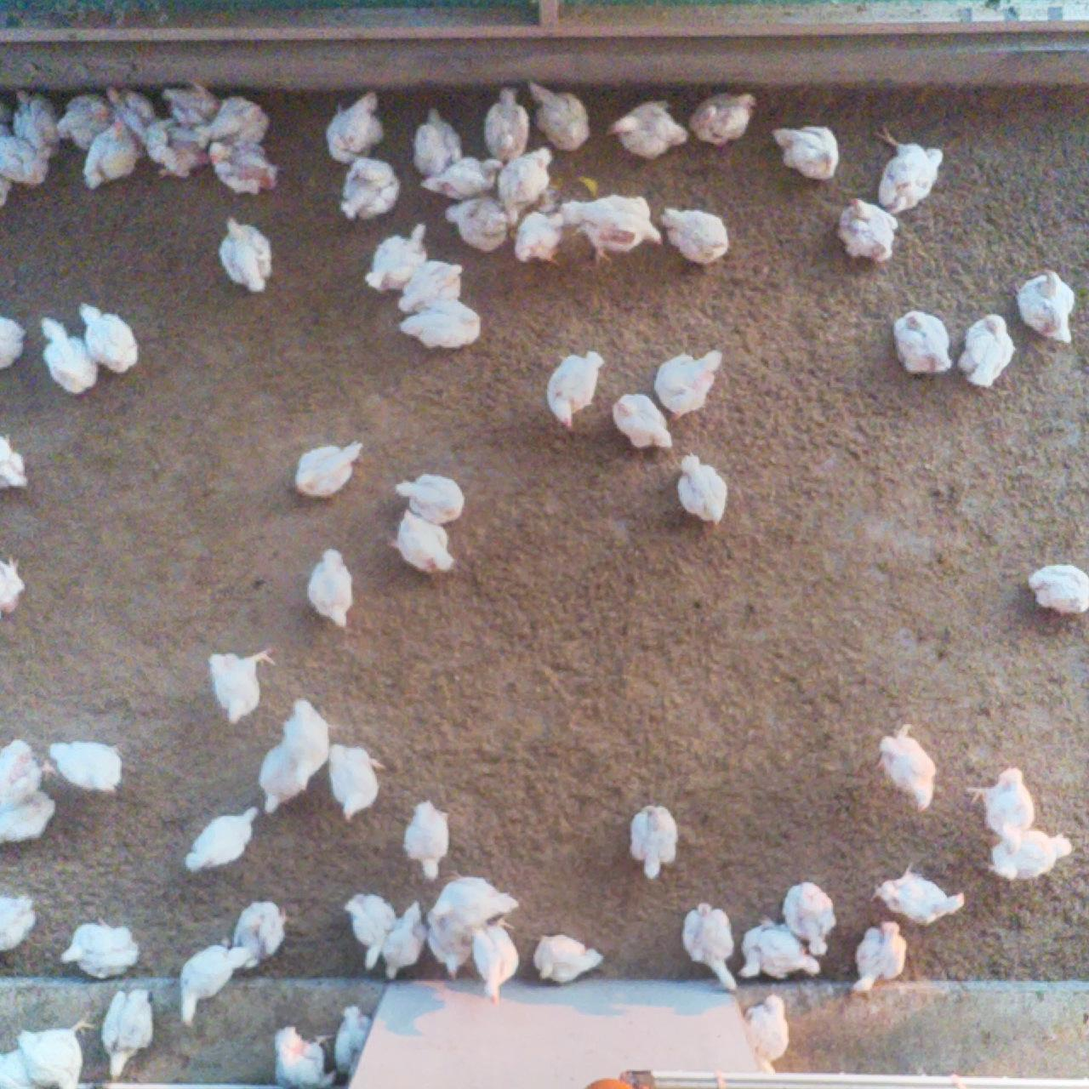chicken: (862, 106, 949, 228), (559, 189, 664, 271), (173, 938, 260, 1033), (723, 907, 823, 985), (866, 855, 969, 928), (649, 339, 730, 431), (868, 717, 940, 818), (600, 91, 695, 165), (53, 908, 147, 981), (13, 1012, 100, 1089), (678, 895, 742, 998), (538, 340, 608, 434), (984, 820, 1078, 890), (1009, 262, 1082, 350), (959, 757, 1036, 840), (183, 805, 267, 880), (34, 311, 103, 402), (206, 641, 278, 728), (395, 294, 493, 357), (764, 116, 844, 193), (72, 296, 142, 383), (326, 738, 392, 830), (320, 78, 389, 165), (260, 1016, 341, 1089), (952, 303, 1018, 392), (76, 115, 144, 201), (386, 502, 459, 582), (884, 304, 956, 384), (687, 84, 763, 159), (829, 190, 900, 270), (97, 985, 156, 1081), (336, 150, 411, 225), (280, 691, 334, 795), (524, 76, 594, 155), (290, 430, 369, 500), (624, 793, 684, 885), (358, 219, 432, 292), (431, 865, 522, 924), (439, 190, 519, 257), (215, 211, 278, 296), (42, 737, 131, 797), (654, 201, 733, 268), (671, 448, 732, 534), (464, 914, 519, 1009), (477, 76, 537, 162), (778, 877, 839, 961), (375, 895, 434, 981), (141, 112, 212, 182), (305, 543, 359, 635), (202, 136, 282, 198), (740, 982, 791, 1079), (390, 257, 471, 318), (392, 463, 470, 526), (423, 901, 482, 984), (849, 917, 908, 1000), (418, 151, 507, 206), (47, 87, 117, 156), (528, 924, 605, 986), (401, 797, 454, 883), (408, 98, 464, 179), (198, 92, 277, 148), (611, 388, 676, 456), (8, 81, 66, 157), (0, 729, 56, 807), (342, 889, 393, 972), (232, 896, 291, 967), (1017, 556, 1089, 614), (504, 143, 561, 215), (155, 70, 220, 132), (512, 209, 573, 269), (0, 126, 57, 190), (330, 999, 375, 1078), (103, 79, 155, 144), (0, 887, 39, 954), (0, 424, 33, 496), (0, 299, 28, 382), (0, 549, 31, 619), (0, 1039, 37, 1089)
